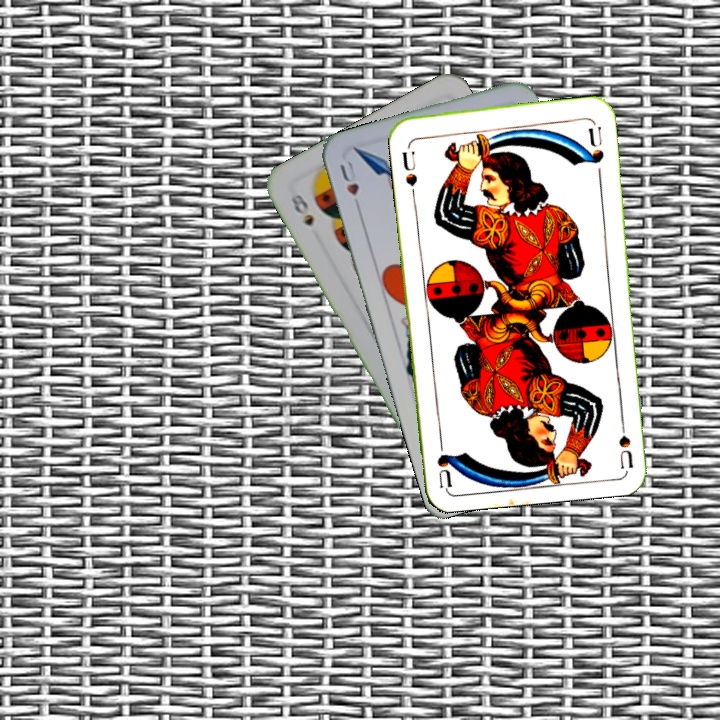HU: (336, 157, 364, 213)
S8: (285, 188, 318, 229)
SU: (615, 409, 635, 469), (398, 147, 420, 189)
